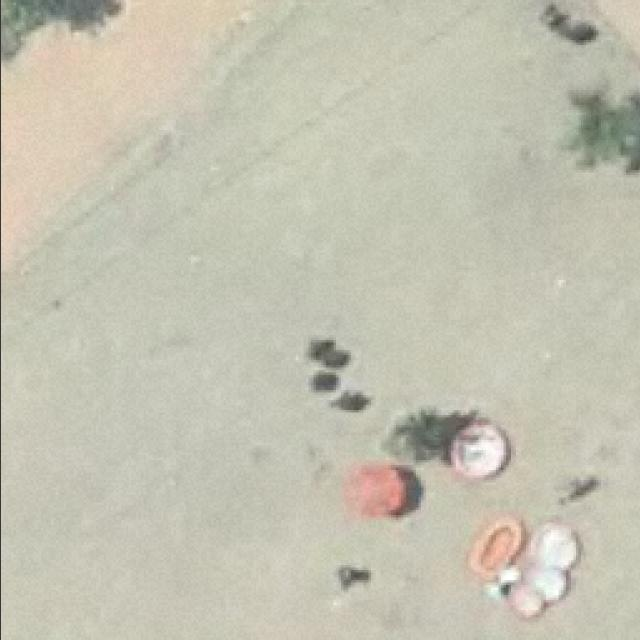vendedor_ambulante: (338, 457, 403, 523)
